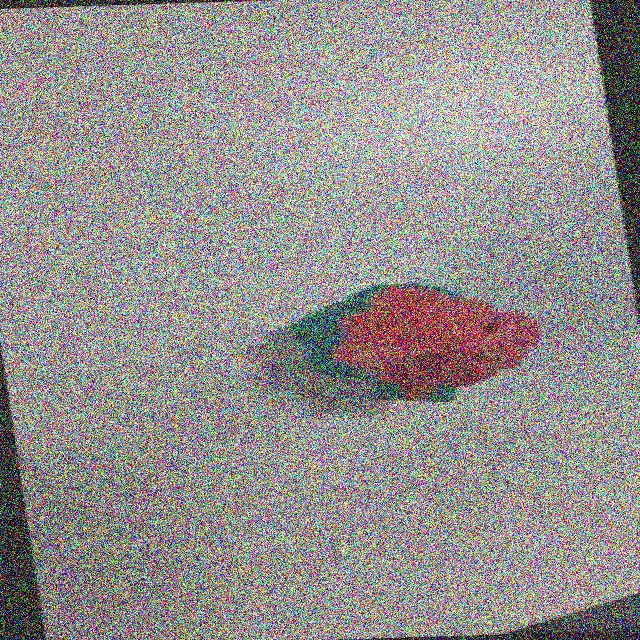House: (270, 272, 556, 407)
